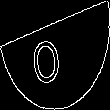O_N: (37, 25, 73, 85)
